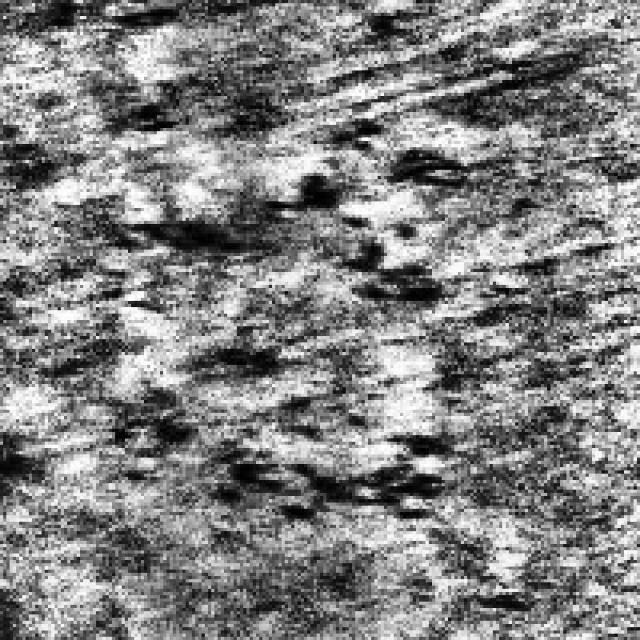Crazing: (92, 83, 438, 304), (112, 342, 445, 548)
